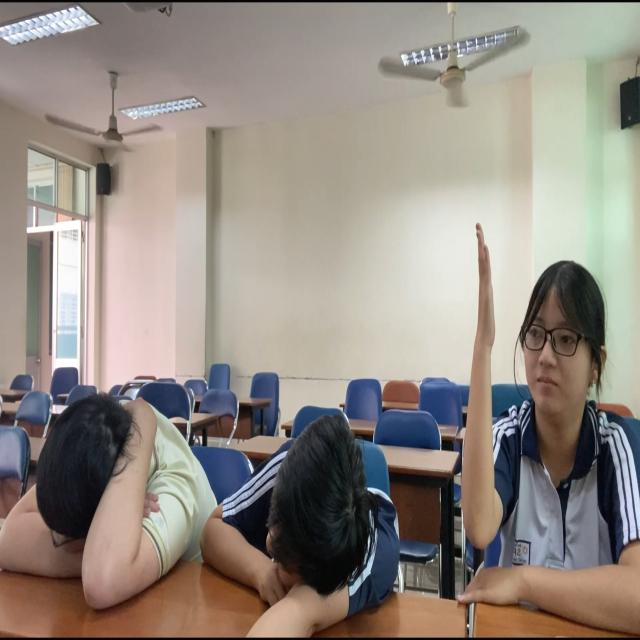raise_hand: (444, 199, 640, 637)
sleep: (1, 317, 180, 640), (208, 391, 426, 627)
